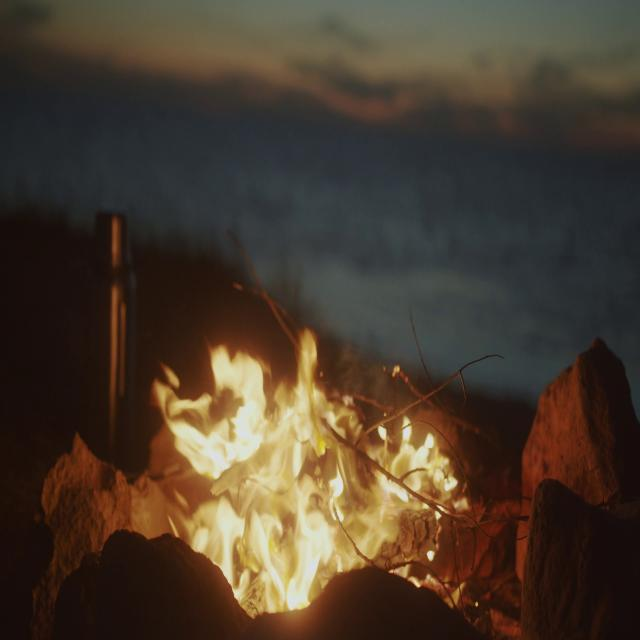Fire: (158, 310, 466, 622)
